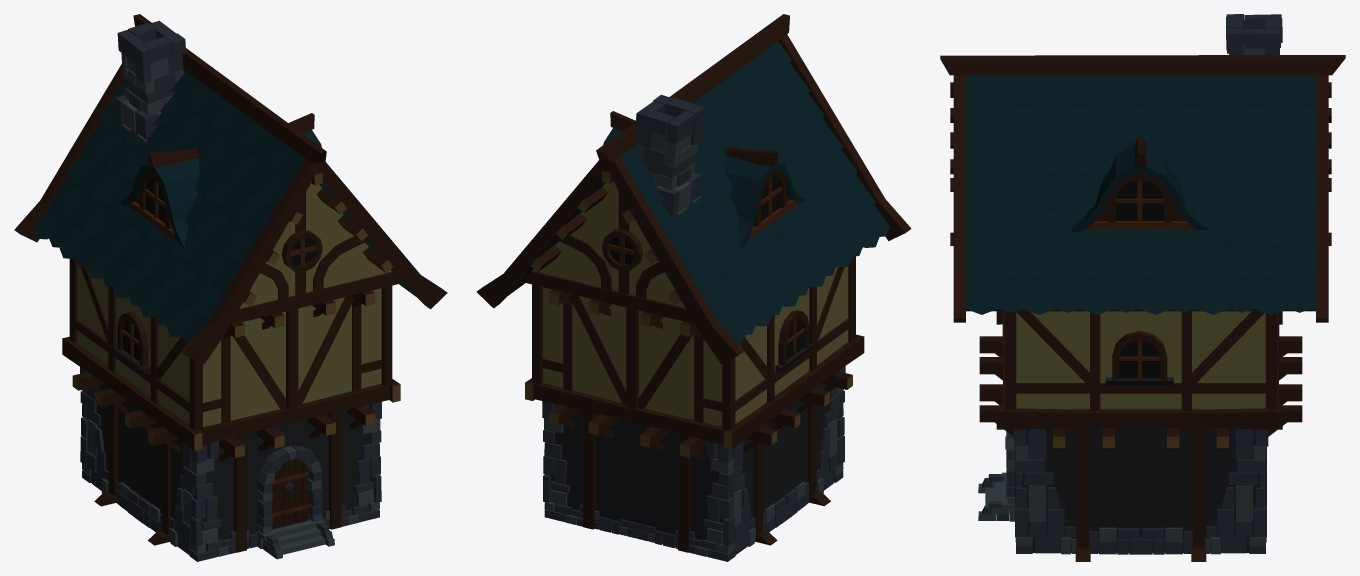
File: House_1.obj
3 renders of one model, left to right at view 1: azimuth 30°, elevation 25°; view 2: azimuth 150°, elevation 25°; view 3: azimuth 270°, elevation 25°, orthographic. The views are drawn at different scales.
Visible parts, largest first — view 1: House_1_Cube.145; view 2: House_1_Cube.145; view 3: House_1_Cube.145.
Part boxes in pixels (<box>): House_1_Cube.145: <box>14,14,447,561</box>; House_1_Cube.145: <box>476,14,911,561</box>; House_1_Cube.145: <box>940,14,1345,561</box>.
Size of the model in its own units: 2.14 by 3.39 by 2.66.
